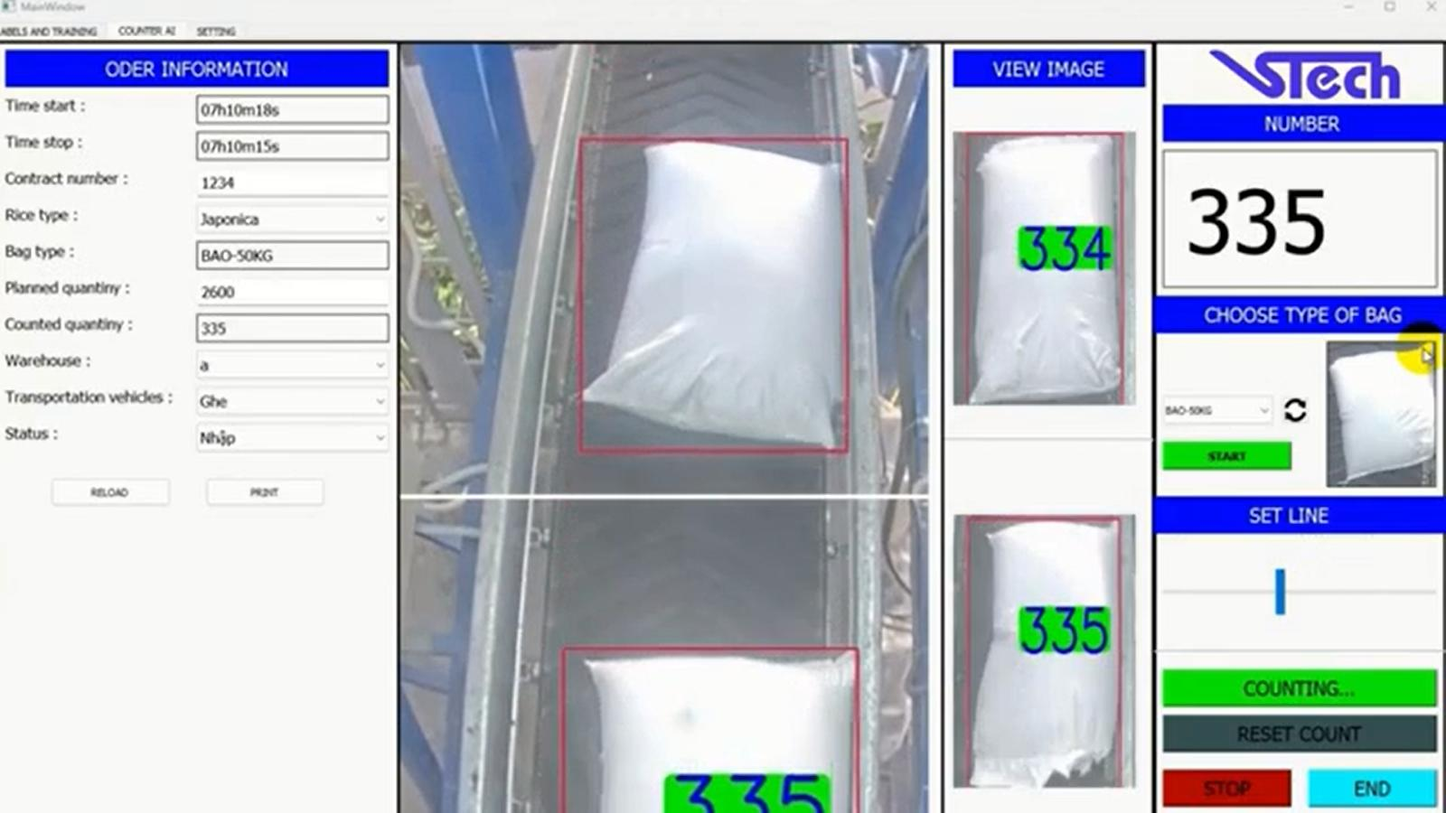rice-bag: (583, 141, 843, 449), (966, 135, 1122, 404), (967, 520, 1121, 787)
